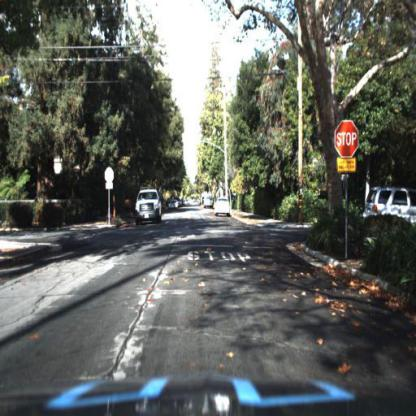car: (364, 181, 416, 232), (357, 181, 416, 222), (134, 187, 164, 229), (213, 195, 233, 222), (214, 195, 234, 217)
